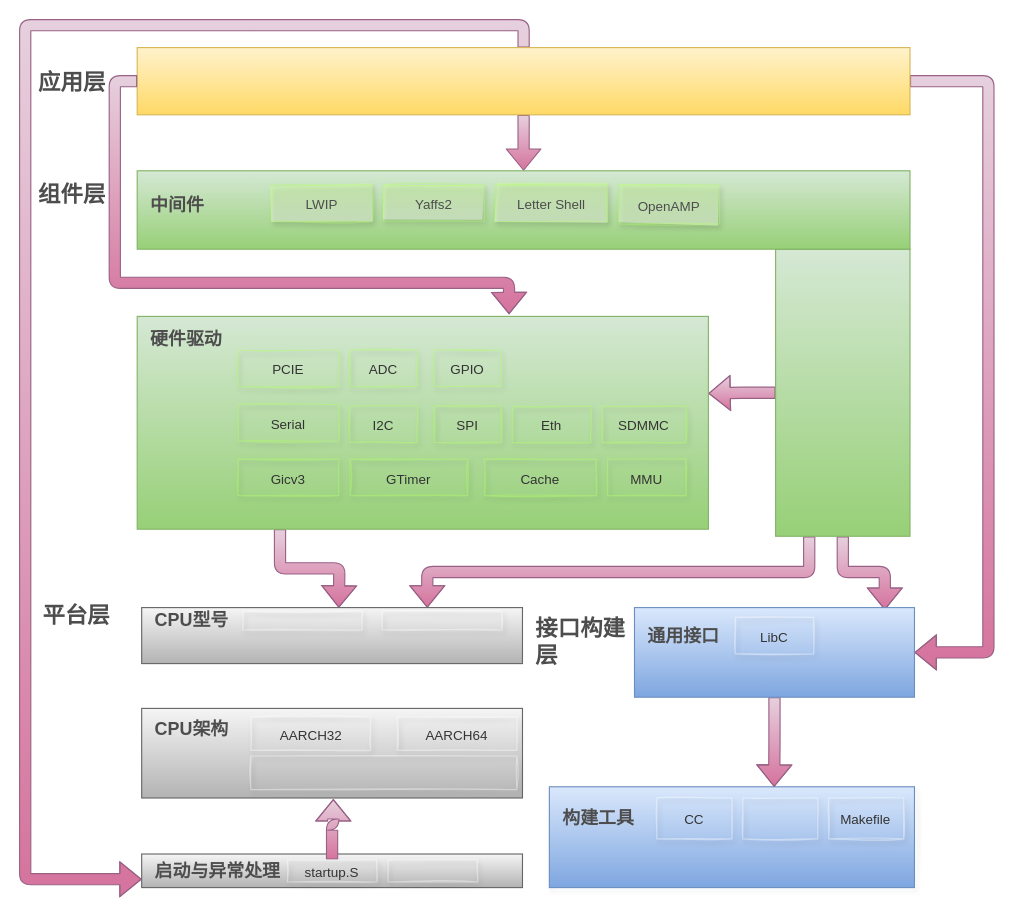
Image size: 1014x916. Some labels were removed from this diagram. Each missing label, with the centre of its shape:
Armv8-a: the point at 384,773
D2000: the point at 443,621
FT2000/4: the point at 303,621
Kconfig: the point at 781,819
vector.S: the point at 433,872
中间件接口(Ports): the point at 842,392
嵌入式应用: the point at 523,80
